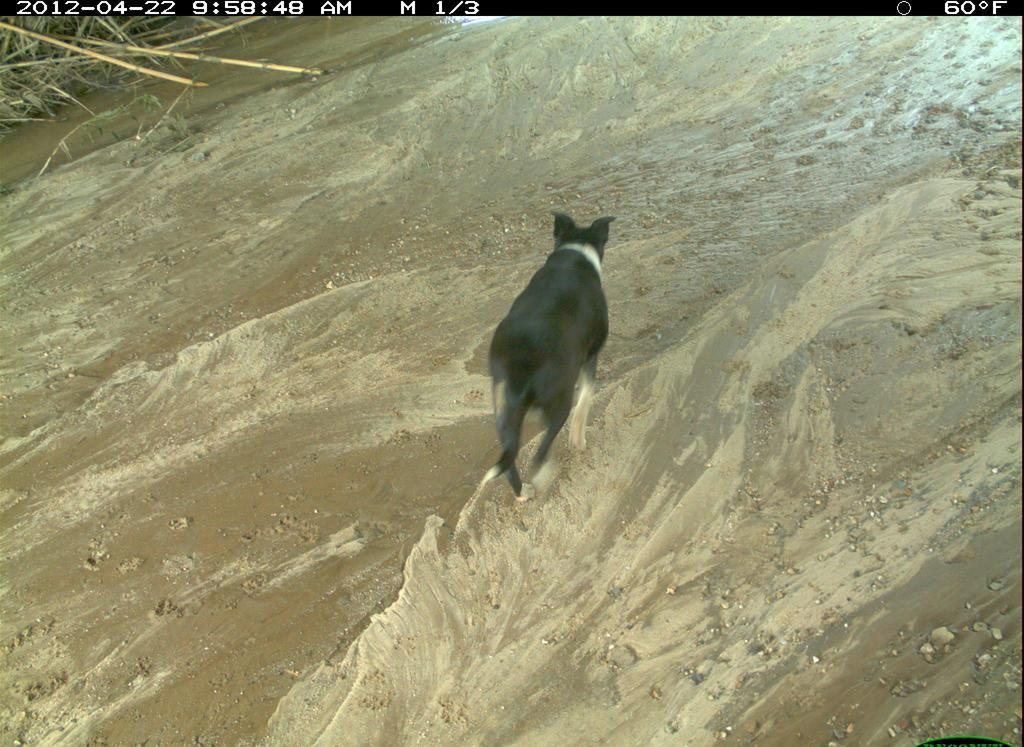dog: (953, 420, 1024, 747)
